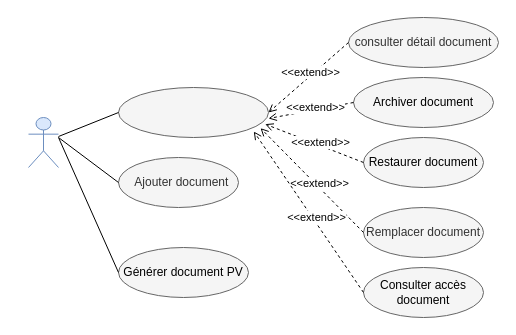
This 516x335 diagram has some shape labels left out. The shapes that lost their labels are listed below. From the top down, each one's centre as x and y in pixels, then its label:
At point 193,112: "consulter Liste Documents".
At point 43,142: "Utilisateur".
